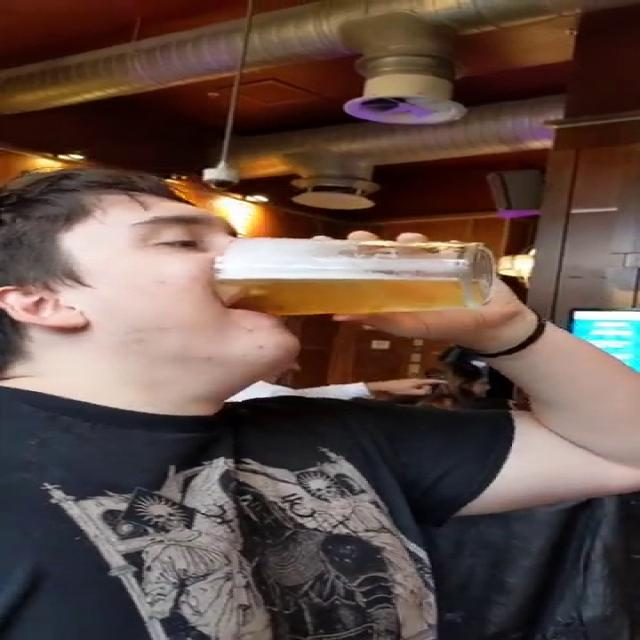Cup: (210, 238, 496, 316)
Hand: (308, 218, 538, 360)
Mouth: (206, 277, 289, 330)
